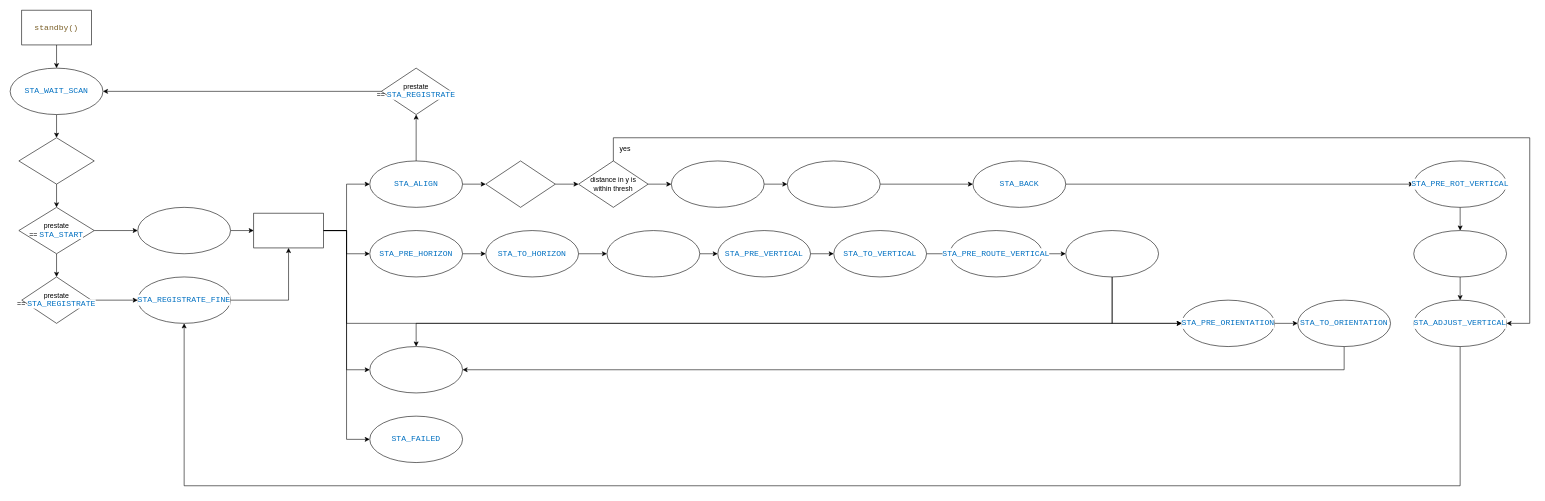
Image size: 1545x501. Some labels were removed from this diagram. The centre of each missing label's shape, as x and y in pixels:
200ms timeout: (56,160)
prestate == STA_REGISTRATE_FINE: (520,183)
registration(): (288,230)
STA_DONE: (416,369)
STA_PRE_ROT_ANGLE: (717,183)
STA_REGISTRATE: (184,230)
STA_ROT_ANGLE: (833,183)
STA_ROT_VERTICAL: (1460,253)
STA_ROUTE_HORIZON: (653,253)
STA_ROUTE_VERTICAL: (1112,253)
